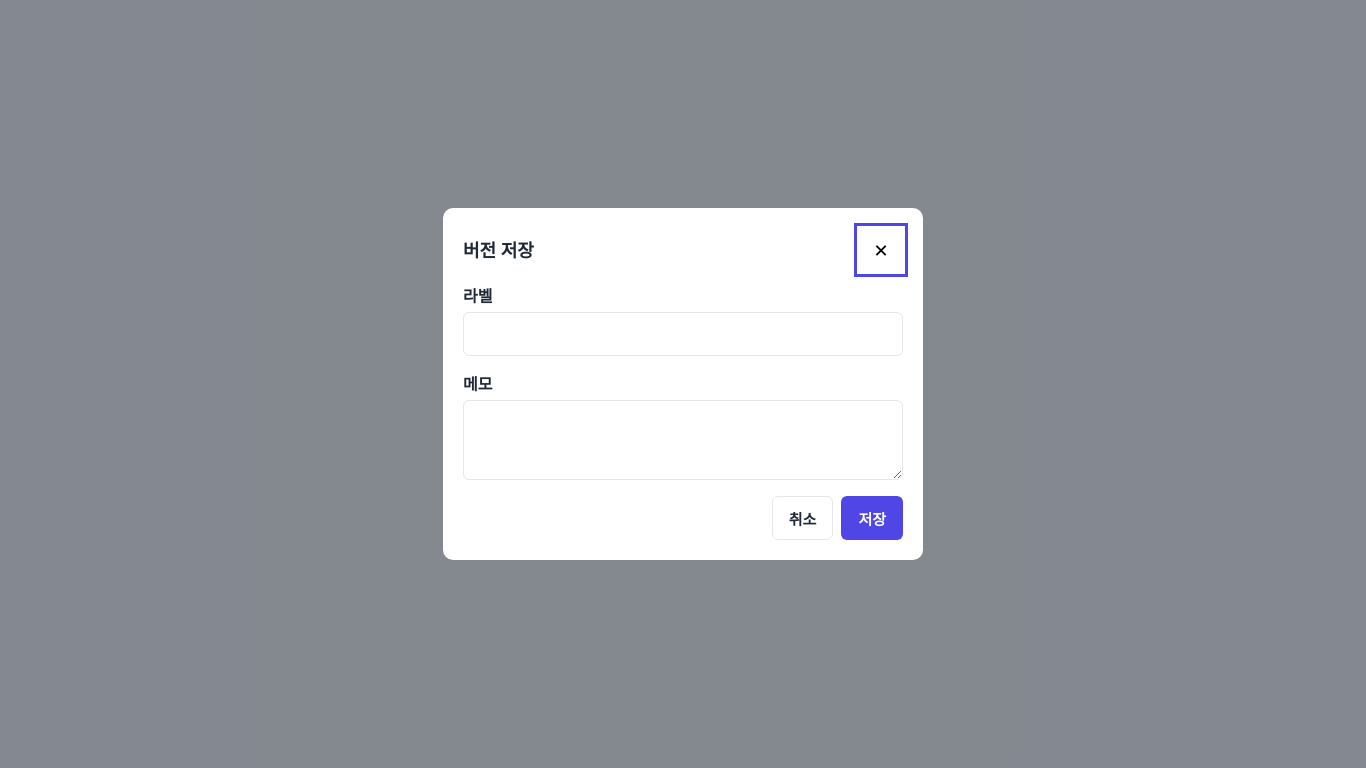
Scenario: CreateVersionModal › VERSION_SNAPSHOT_TOO_LARGE 오류는 전용 문구로 표시된다
Click the button "저장": click(872, 518) 841,496 -> 903,540
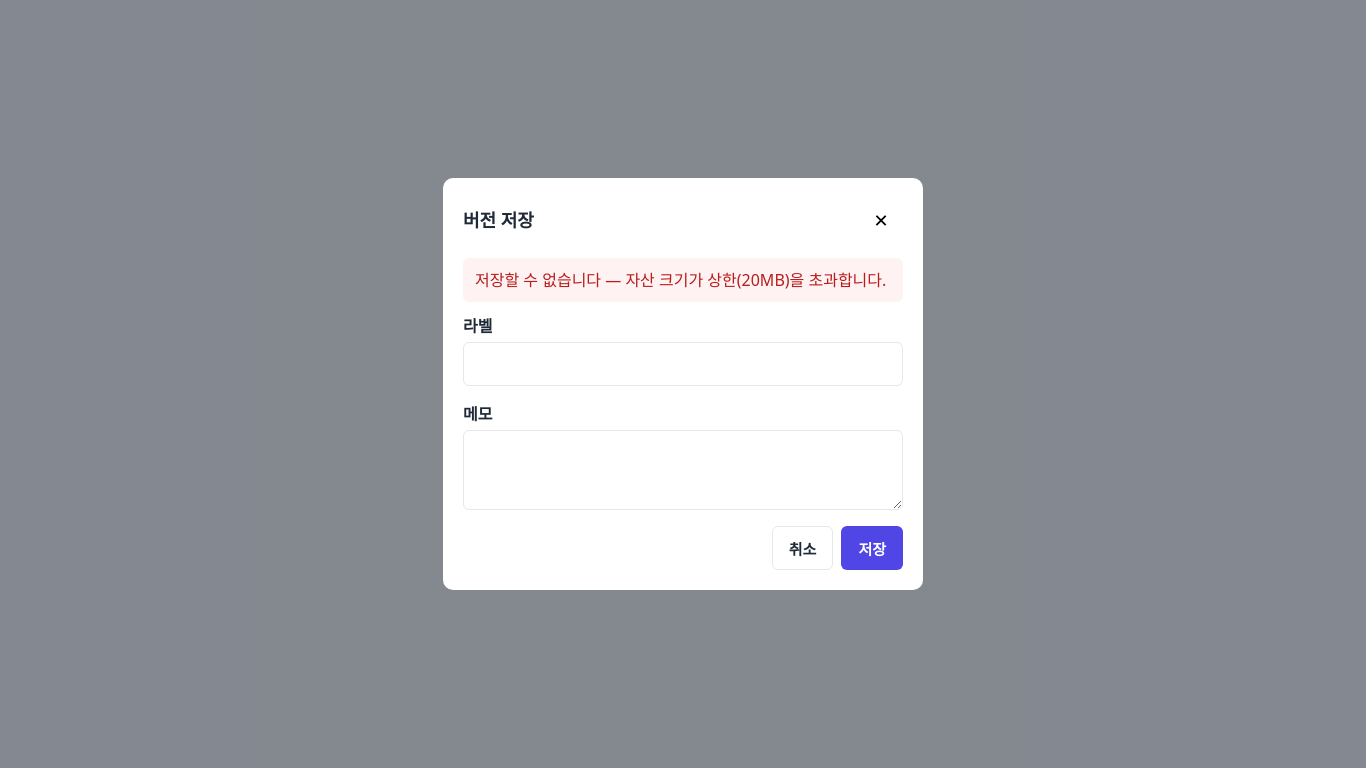
Check: the message reads "저장할 수 없습니다 — 자산 크기가 상한(20MB)을 초과합니다.", box 475,269 -> 886,291
